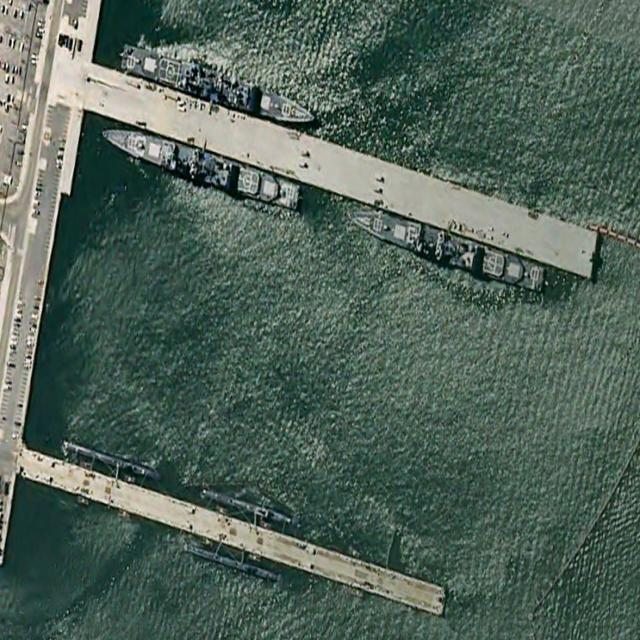Cruiser: (98, 118, 301, 213), (117, 39, 317, 133), (349, 202, 546, 295)
Submarine: (59, 435, 164, 485), (200, 484, 300, 531), (182, 539, 282, 586)
